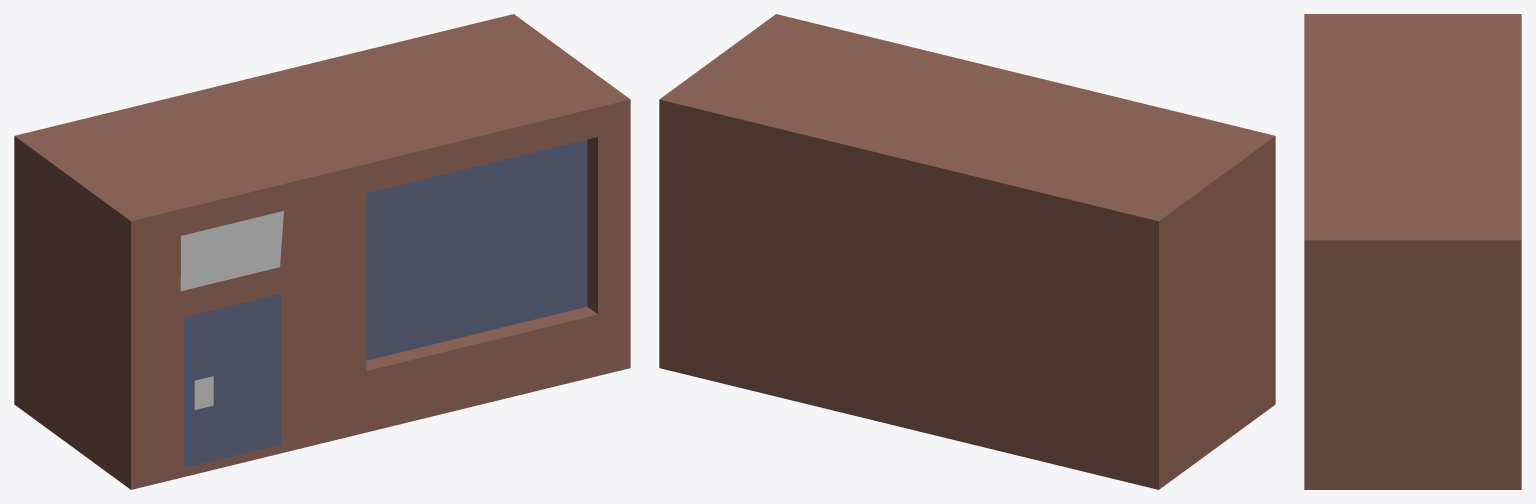
Rendered from BookShop.fbx.
3 renders of one model, left to right at view 1: azimuth 30°, elevation 25°; view 2: azimuth 150°, elevation 25°; view 3: azimuth 270°, elevation 25°, orthographic. The views are drawn at different scales.
Parts seen in each view (by area): view 1: Cube; view 2: Cube; view 3: Cube.
Part boxes in pixels (bbox=[...]): Cube: bbox=[14, 14, 630, 489]; Cube: bbox=[659, 14, 1275, 489]; Cube: bbox=[1304, 14, 1521, 489].
Size of the model in its own units: 719 by 370 by 291.
